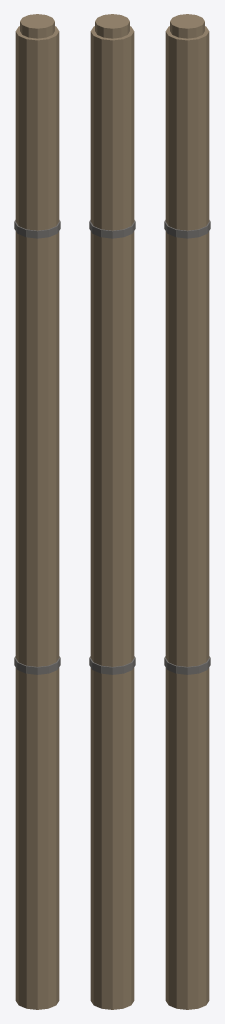
File: dm_dockpiletall.glb
3 renders of one model, left to right at view 1: azimuth 90°, elevation 25°; view 2: azimuth 150°, elevation 25°; view 3: azimuth 270°, elevation 25°, orthographic.
Visible parts, largest first — view 1: dm_dockpiletall; view 2: dm_dockpiletall; view 3: dm_dockpiletall.
Part boxes in pixels (box(x1,y1,x2,y2)): dm_dockpiletall: box(14, 14, 60, 1009); dm_dockpiletall: box(89, 14, 135, 1009); dm_dockpiletall: box(164, 14, 210, 1009).
Bounding box in the file's own units: 0.3392 × 7.93 × 0.3392.
